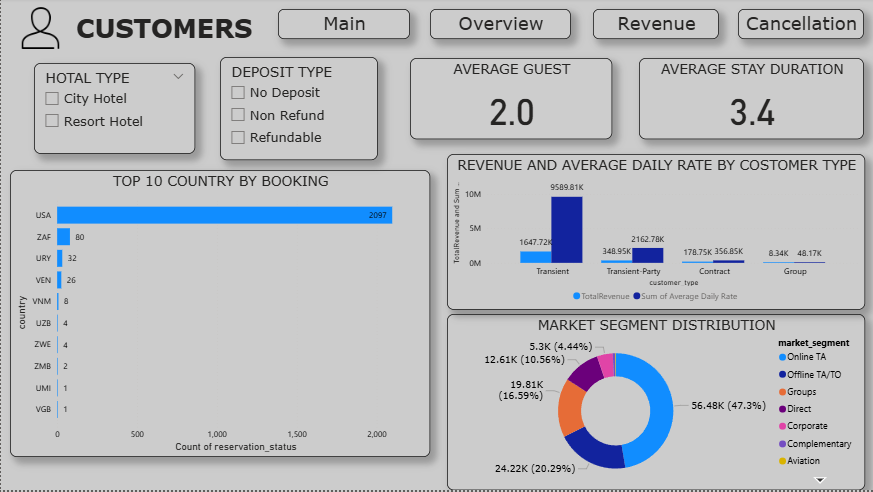

The dashboard page shown, as its layout file describes it:
{"tool":"powerbi","page":{"name":"CUSTOMERS","canvas":[1280,720],"ordinal":1},"visuals":[{"type":"card","title":"AVERAGE GUEST","fields":{"Values":["hotel_bookings.Average Guests"]},"box":[598.5,87.8,295.6,118.5],"z":0},{"type":"card","title":"AVERAGE STAY DURATION","fields":{"Values":["hotel_bookings.Average Stay Duration"]},"box":[933.7,87.8,329.3,118.5],"z":1000},{"type":"donutChart","title":"MARKET SEGMENT DISTRIBUTION","fields":{"Y":["CountNonNull(hotel_bookings.reservation_status)"],"Category":["hotel_bookings.market_segment"]},"box":[652.7,462.4,611.7,257.6],"z":2000},{"type":"clusteredBarChart","title":"TOP 10 COUNTRY BY BOOKING","fields":{"Category":["hotel_bookings.country"],"Y":["CountNonNull(hotel_bookings.reservation_status)"]},"box":[13.2,251.7,614.6,420],"z":3000},{"type":"clusteredColumnChart","title":"REVENUE AND AVERAGE DAILY RATE BY COSTOMER TYPE ","fields":{"Category":["hotel_bookings.customer_type"],"Y":["hotel_bookings.TotalRevenue","Sum(hotel_bookings.Average Daily Rate)"]},"box":[652.7,228.3,611.7,228.3],"z":4000},{"type":"slicer","fields":{"Values":["hotel_bookings.hotel type"]},"box":[48.3,95.1,235.6,133.2],"z":5000},{"type":"slicer","fields":{"Values":["hotel_bookings.deposit_type"]},"box":[320.5,86.3,231.2,150.7],"z":6000},{"type":"actionButton","title":"Overview","box":[627.8,16.1,206.3,43.9],"z":7000},{"type":"actionButton","title":"Main","box":[405.4,16.1,193.2,43.9],"z":8000},{"type":"actionButton","title":"Revenue","box":[866.3,16.1,184.4,43.9],"z":9000},{"type":"actionButton","title":"Cancellation","box":[1078.5,16.1,184.4,43.9],"z":10000},{"type":"textbox","box":[87.8,16.1,301.5,55.6],"z":11000},{"type":"image","box":[13.2,0,87.8,87.8],"z":12000}]}

Visuals, with their boxes in screenshot pixels (x1, y1, x2, y2), scaled from the page's 1280x720 canvas onto the 873x492 screenshot:
"AVERAGE GUEST" card: (x1=408, y1=60, x2=610, y2=141)
"AVERAGE STAY DURATION" card: (x1=637, y1=60, x2=861, y2=141)
"MARKET SEGMENT DISTRIBUTION" donutChart: (x1=445, y1=316, x2=862, y2=491)
"TOP 10 COUNTRY BY BOOKING" clusteredBarChart: (x1=9, y1=172, x2=428, y2=459)
"REVENUE AND AVERAGE DAILY RATE BY COSTOMER TYPE " clusteredColumnChart: (x1=445, y1=156, x2=862, y2=312)
slicer - hotel_bookings.hotel type: (x1=33, y1=65, x2=194, y2=156)
slicer - hotel_bookings.deposit_type: (x1=219, y1=59, x2=376, y2=162)
"Overview" actionButton: (x1=428, y1=11, x2=569, y2=41)
"Main" actionButton: (x1=276, y1=11, x2=408, y2=41)
"Revenue" actionButton: (x1=591, y1=11, x2=717, y2=41)
"Cancellation" actionButton: (x1=736, y1=11, x2=861, y2=41)
textbox: (x1=60, y1=11, x2=266, y2=49)
image: (x1=9, y1=0, x2=69, y2=60)
